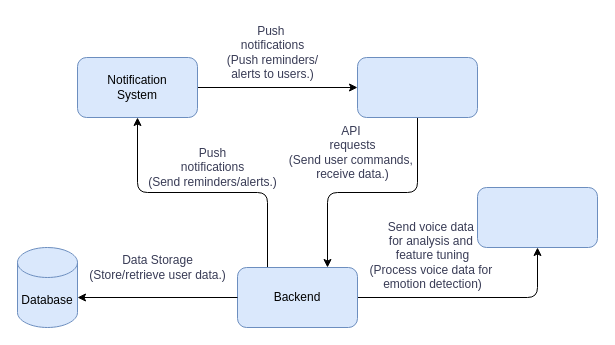
Image size: 615x345. Some labels were removed from this diagram. The shapes that lost their labels are listed below. From the top down, each one's centre as x and y in pixels, then its label:
pixel 417 87: Mobile App (React Native)
pixel 537 217: AI/ML
